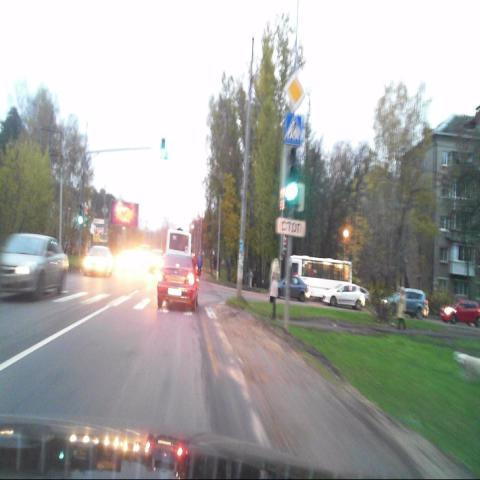6_16: (276, 217, 306, 237)
